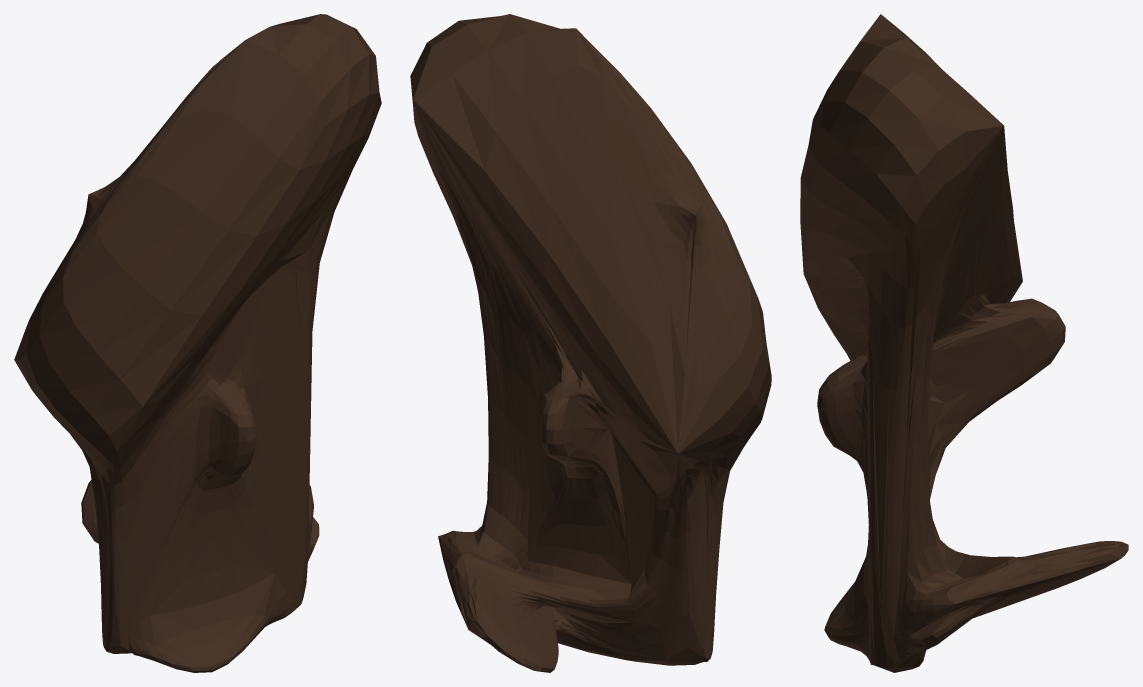
The picture shows the model from 3 angles, left to right: view 1: azimuth 30°, elevation 25°; view 2: azimuth 150°, elevation 25°; view 3: azimuth 270°, elevation 25°; orthographic projection. The views are drawn at different scales.
Visible parts, largest first — view 1: 603_Cube.2426; view 2: 603_Cube.2426; view 3: 603_Cube.2426.
Part boxes in pixels (bbox=[...]): 603_Cube.2426: bbox=[14, 14, 381, 672]; 603_Cube.2426: bbox=[410, 14, 771, 672]; 603_Cube.2426: bbox=[800, 14, 1128, 672].
Size of the model in its own units: 9.25 by 15.59 by 7.14.
